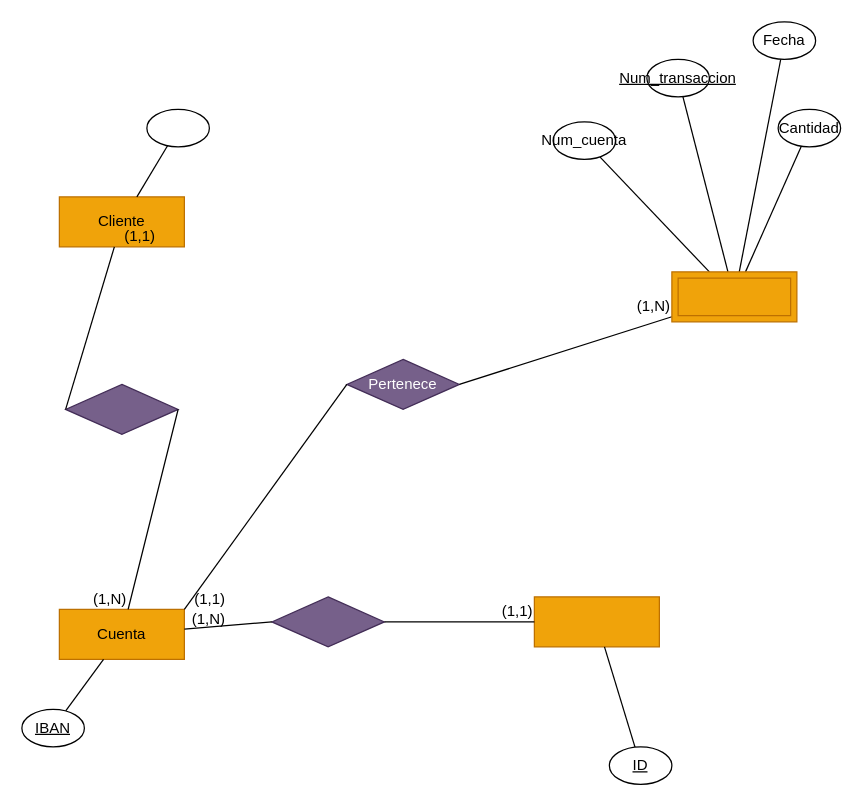
This 863x806 diagram has some shape labels left out. The shapes that lost their labels are listed below. From the top down, each one's box as (x1, y1, x2, y2) in pixels, then its label:
(146, 108, 209, 147): DNI
(671, 271, 797, 322): transacción
(64, 383, 178, 434): Titularidad
(271, 596, 384, 647): Tiene
(533, 596, 659, 647): Sucursal
